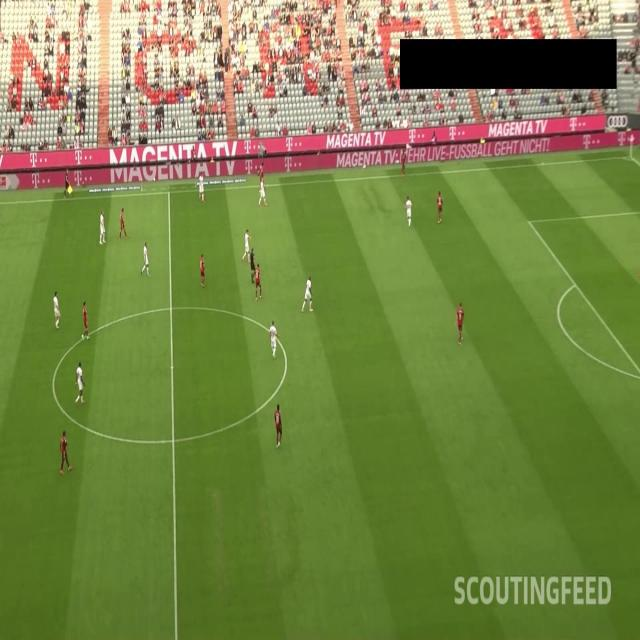player: (60, 428, 71, 473), (274, 402, 283, 449), (303, 272, 313, 312), (97, 208, 107, 247), (118, 207, 128, 241), (81, 300, 89, 342), (52, 290, 61, 327), (76, 359, 83, 405), (142, 241, 151, 275), (270, 320, 278, 358), (255, 259, 262, 300), (198, 254, 206, 287), (243, 228, 250, 265), (404, 198, 412, 228), (198, 170, 205, 203), (399, 148, 406, 178), (457, 303, 462, 343), (436, 190, 442, 221), (259, 178, 266, 204), (259, 163, 264, 191)
